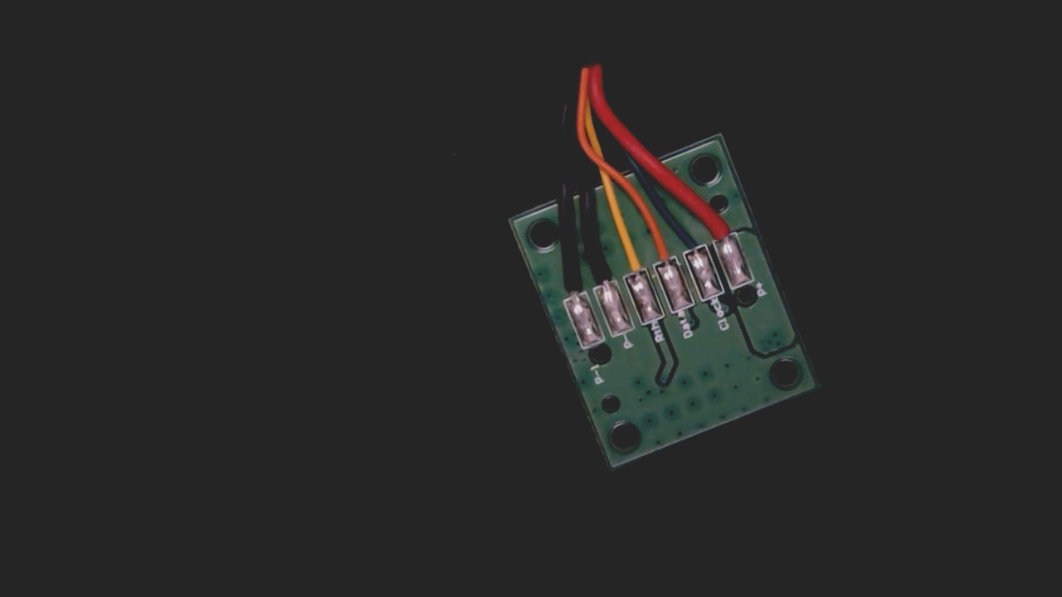Black: (581, 244, 621, 302)
Black1: (551, 259, 591, 315)
Green: (672, 209, 713, 268)
Orange: (644, 222, 683, 279)
Red: (696, 193, 742, 257)
Yellow: (610, 233, 652, 291)
